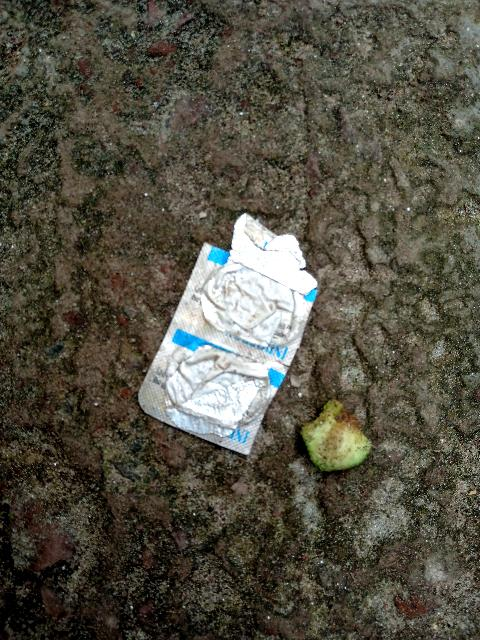medicine: (122, 204, 332, 461)
